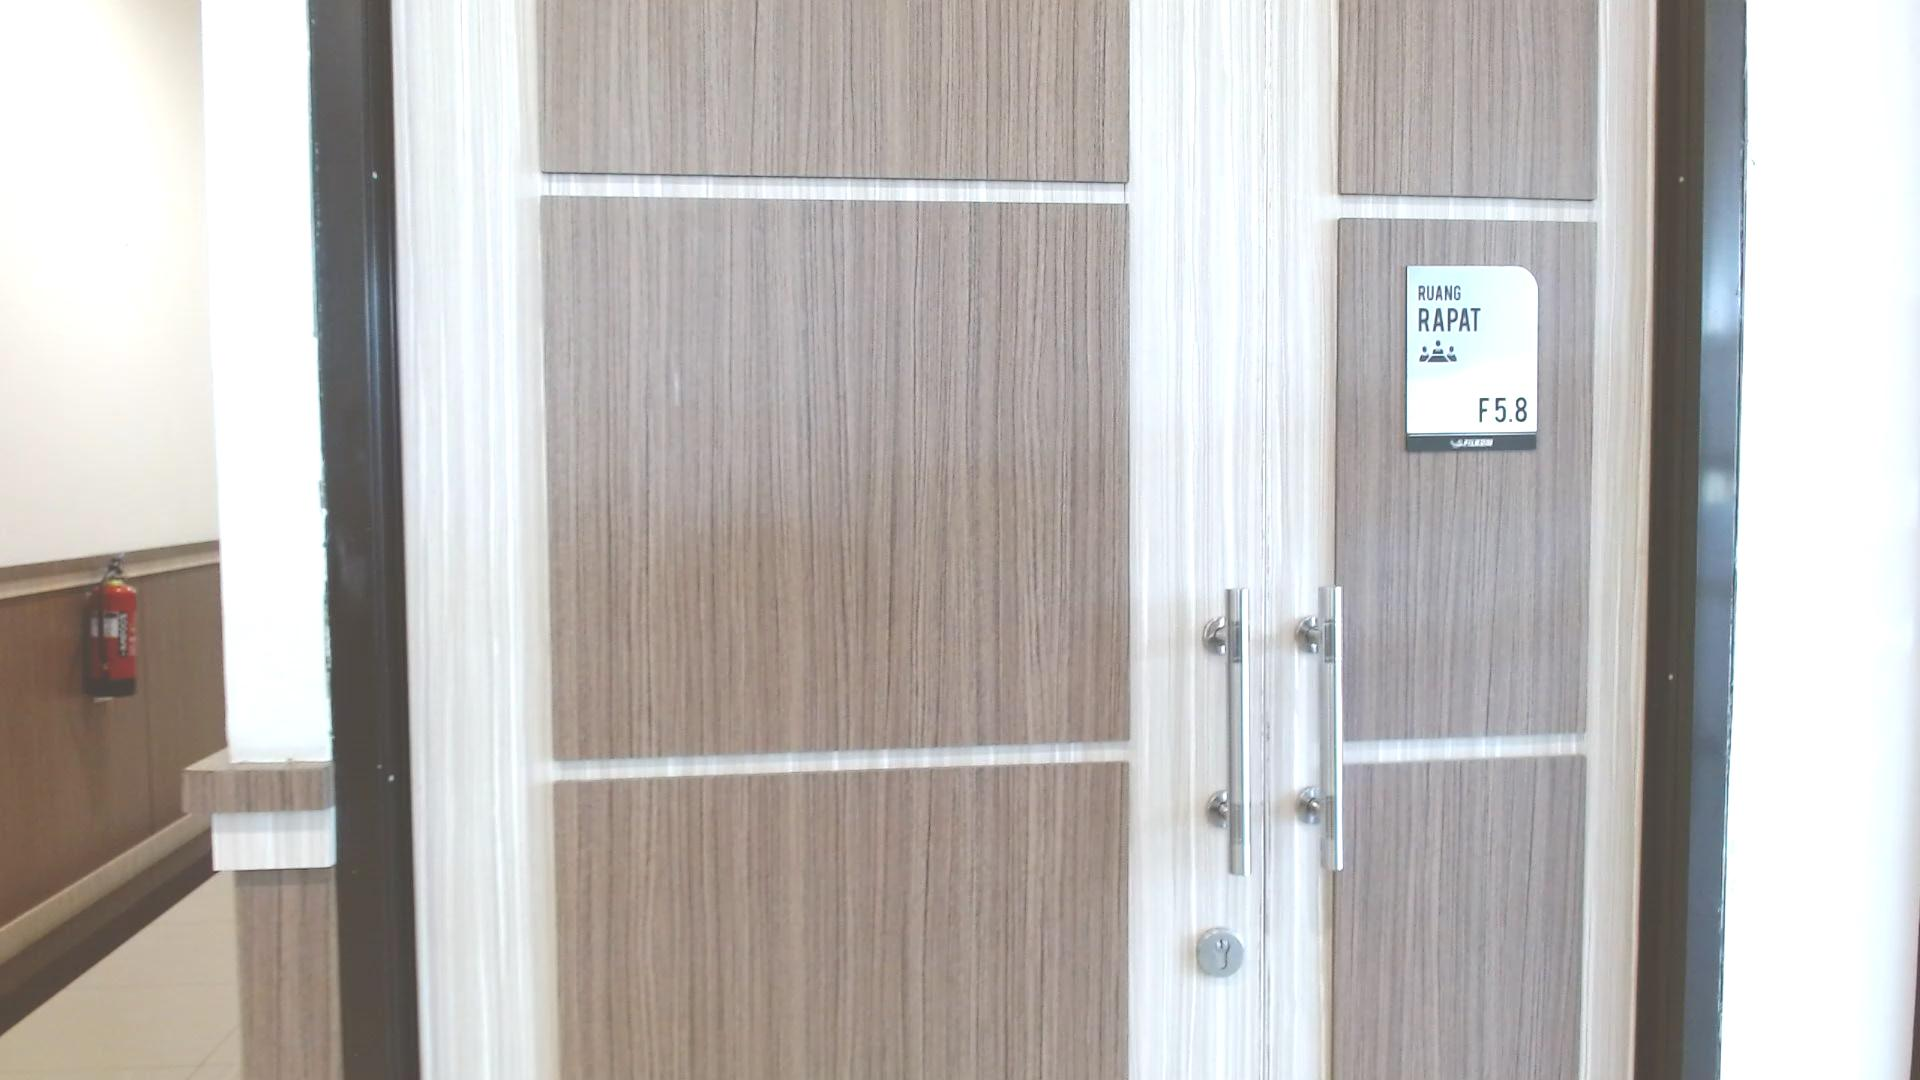plate: (1406, 265, 1538, 454)
